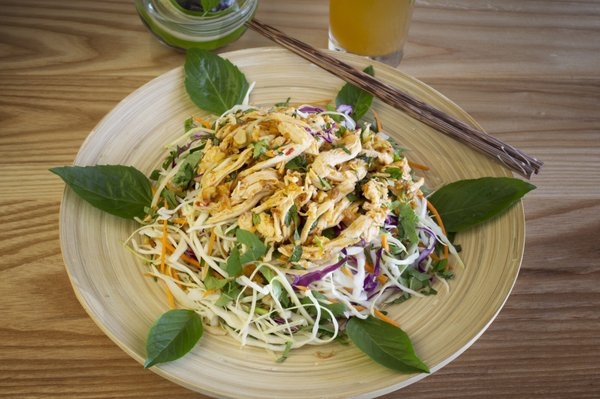pizza: (326, 1, 414, 68)
sandwich: (249, 18, 545, 179)
sushi: (134, 0, 259, 53)
